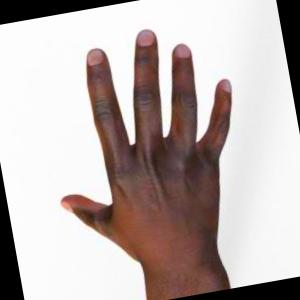paper: (62, 30, 230, 300)
